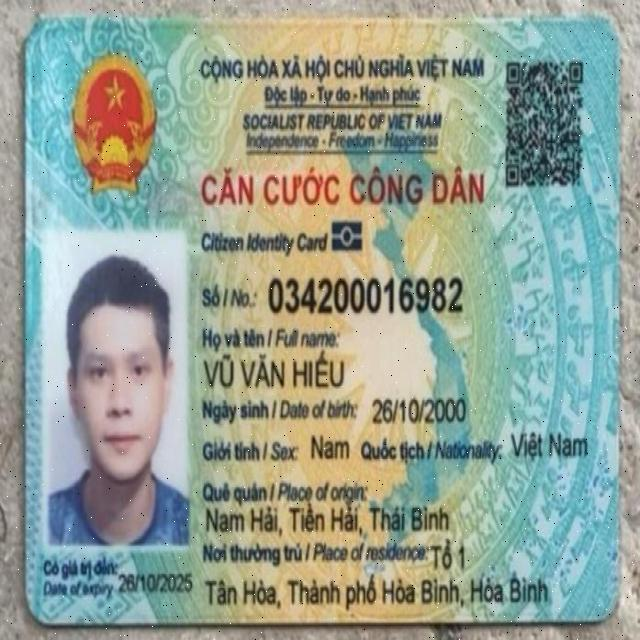current_place: (202, 572, 553, 610), (429, 536, 472, 578)
dob: (369, 392, 467, 425)
expire_date: (115, 567, 195, 597)
gender: (307, 430, 352, 465)
id: (265, 271, 465, 317)
name: (204, 349, 350, 389)
nationality: (508, 424, 589, 467)
origin_place: (201, 500, 454, 538)
